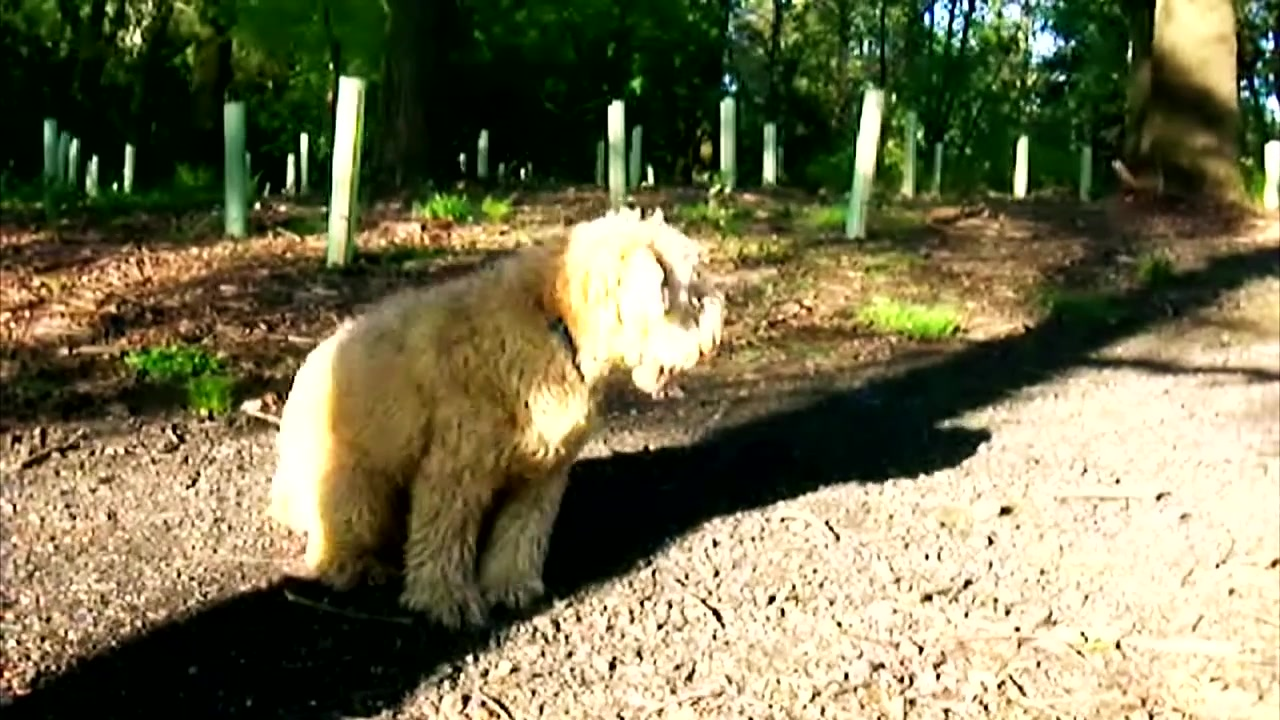dog: (267, 209, 737, 619)
